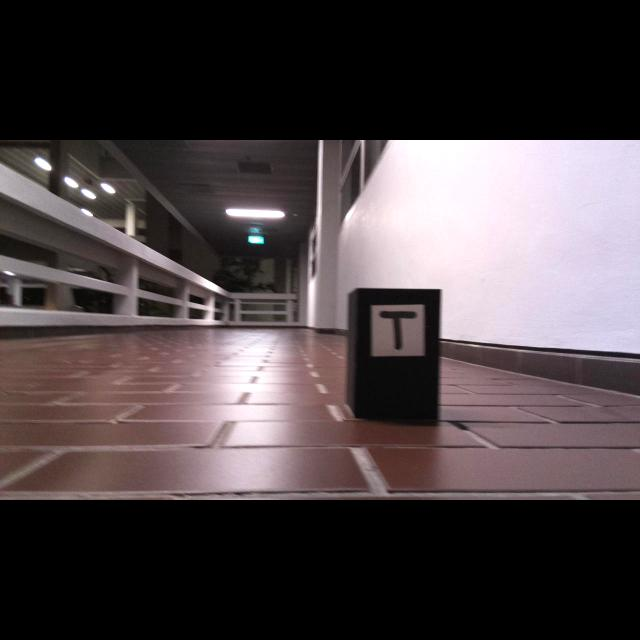T: (380, 310, 418, 350)
